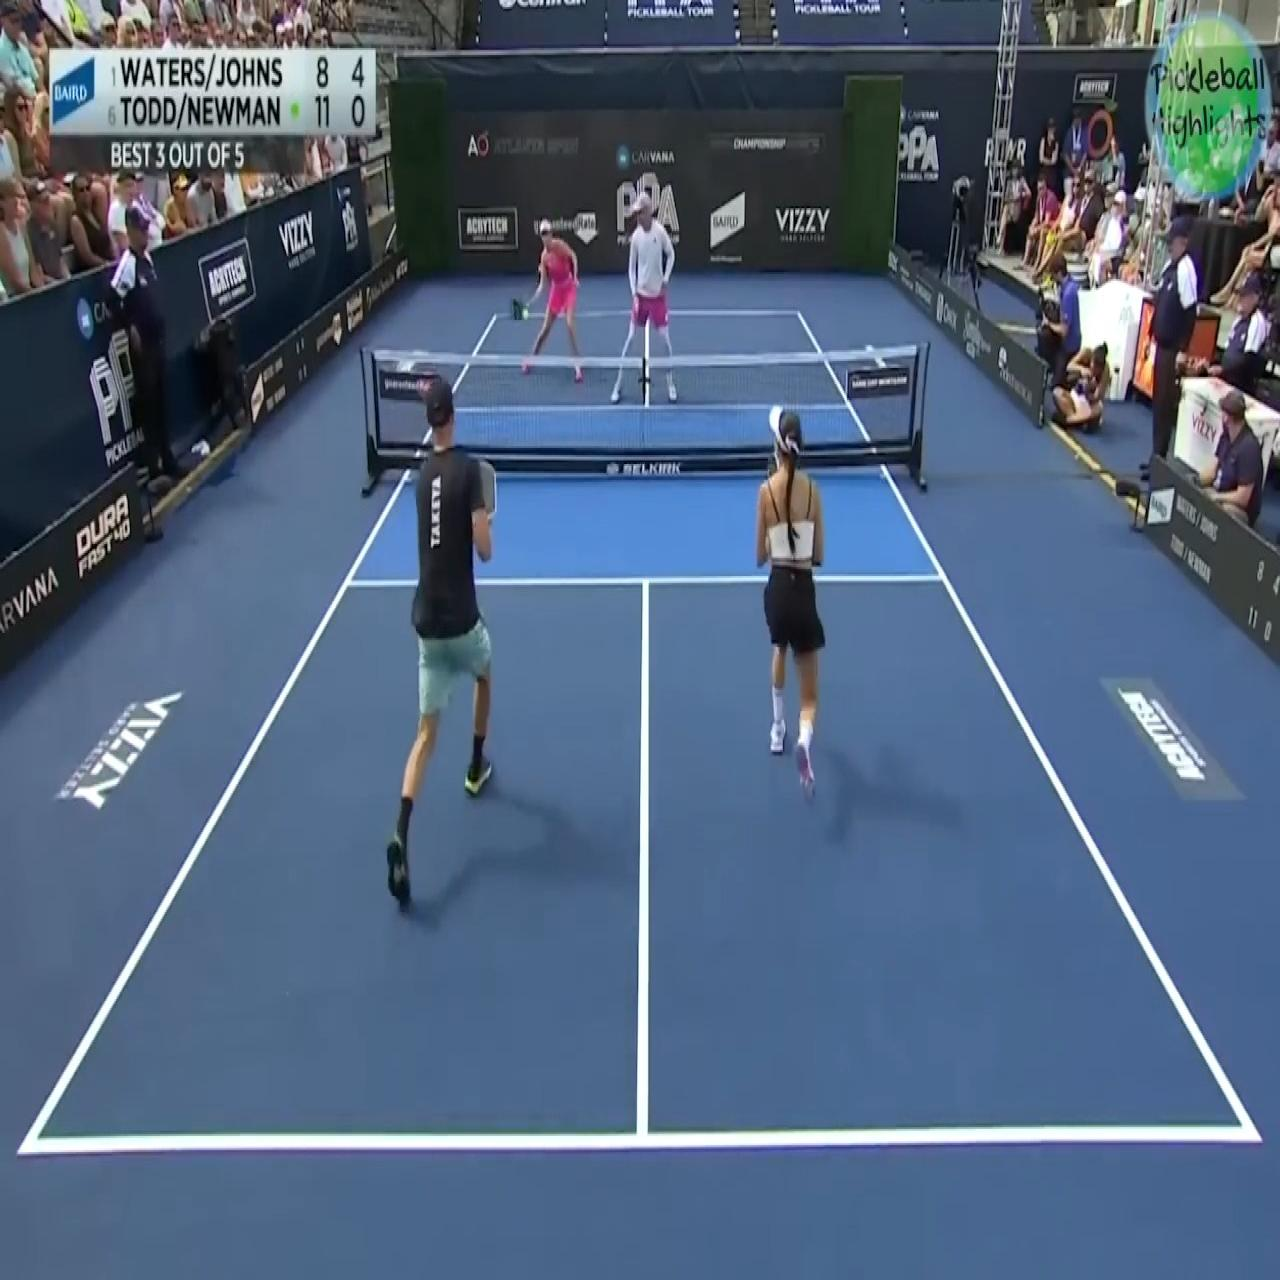Pickleball: (519, 302, 529, 324)
